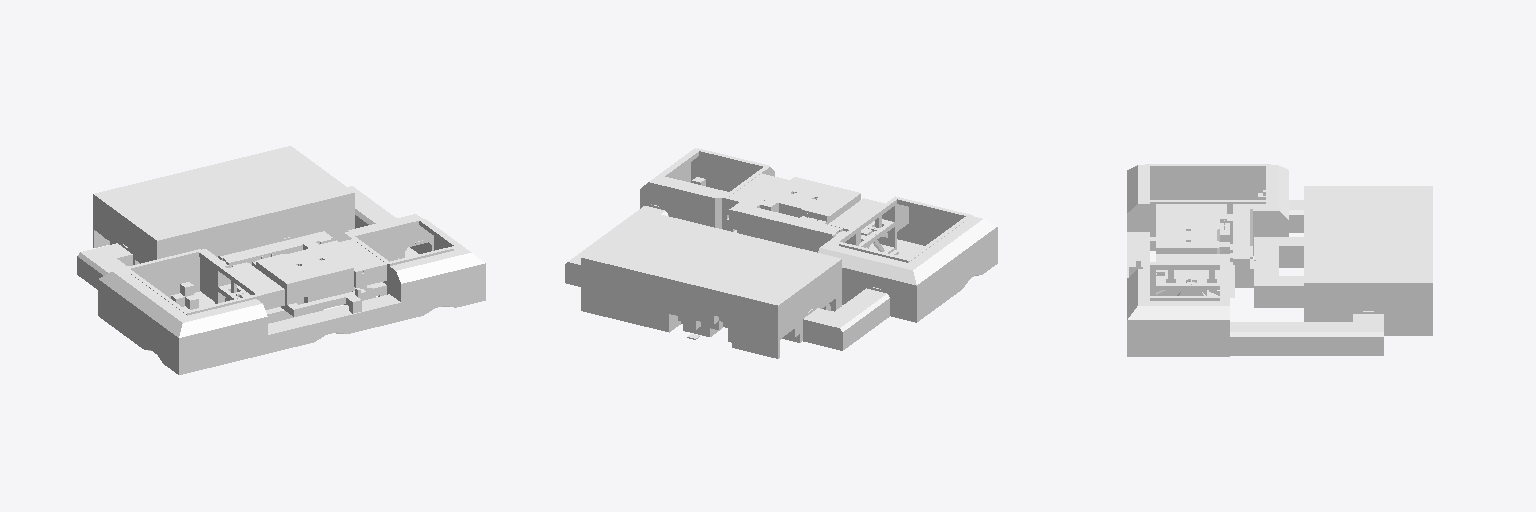
Rendered from hl_mp_stalkyard.obj.
3 views of the same model, side by side, from view 1: azimuth 30°, elevation 25°; view 2: azimuth 150°, elevation 25°; view 3: azimuth 270°, elevation 25° (orthographic).
Parts seen in each view (by area): view 1: hl_mp_stalkyard; view 2: hl_mp_stalkyard; view 3: hl_mp_stalkyard.
Part boxes in pixels (x1,y1,x2,y2): hl_mp_stalkyard: (77, 146, 485, 374); hl_mp_stalkyard: (565, 148, 997, 358); hl_mp_stalkyard: (1127, 164, 1432, 356).
Size of the model in its own units: 2208 by 376 by 1904.